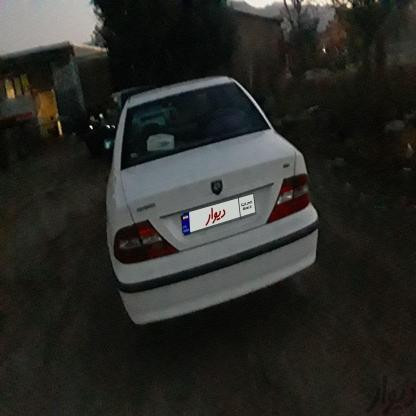Car: (92, 74, 321, 318)
